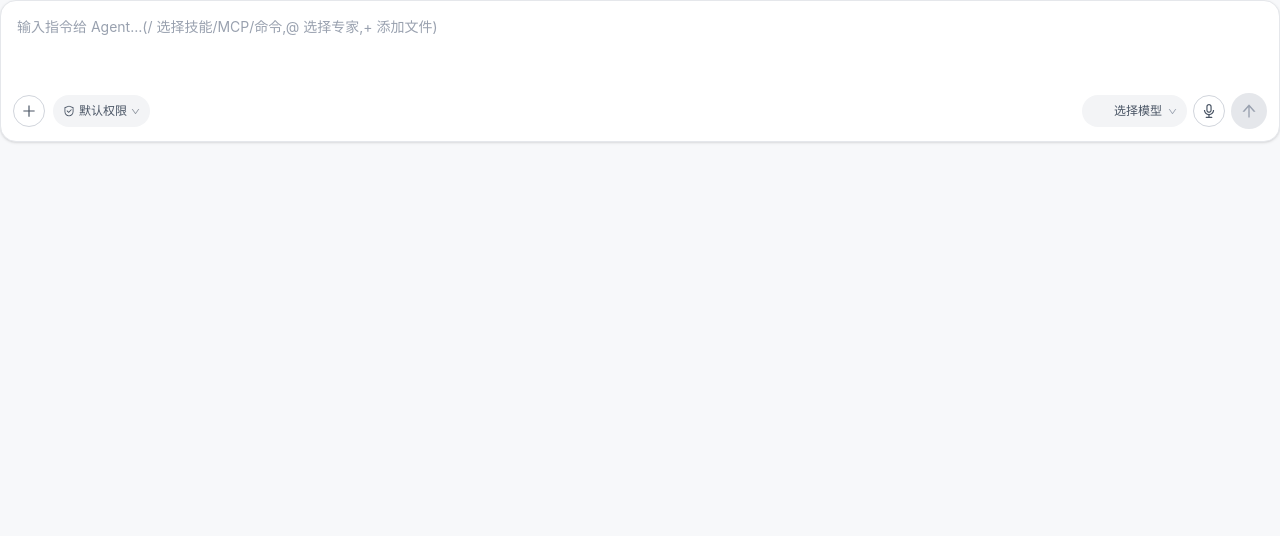
Scenario: AgentWorkspaceInput › / 菜单展示会话命令分组(压缩上下文/清理会话/规划模式)
Type "/" into the text box with placeholder "输入指令给 Agent…(/ 选择技能/MCP/命令,@ 选择专家,+ 添加文件)".
click(640, 47); type("/")  # box [17,17,1263,77]
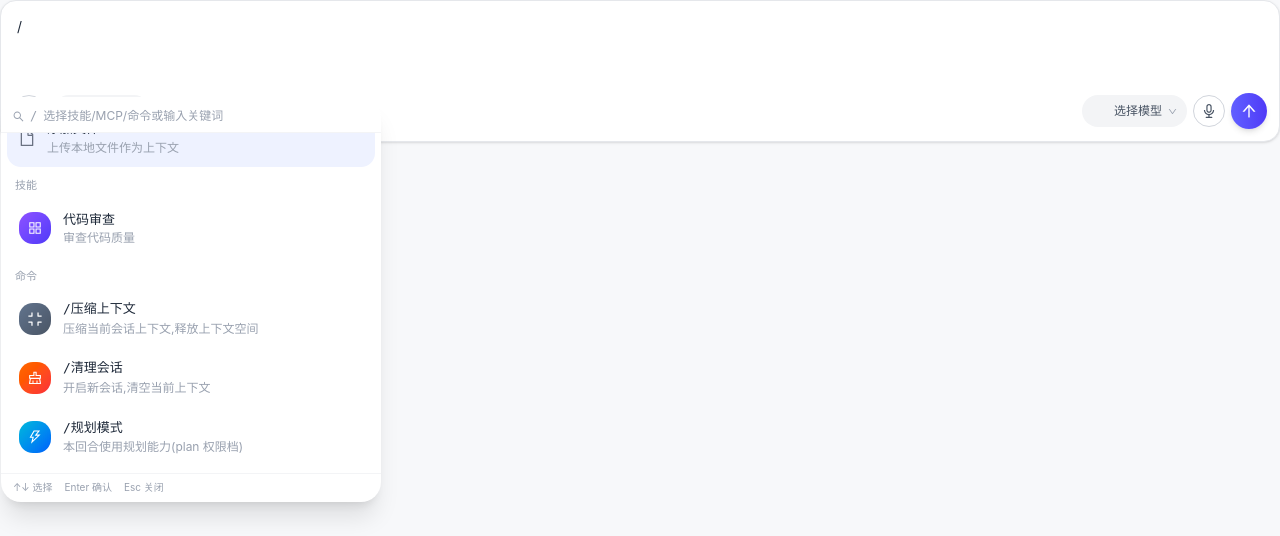
Check: the text "命令" is shown, box [15,269,37,283]
Check: the text "/压缩上下文" is shown, box [63,301,136,316]
Check: the text "/清理会话" is shown, box [63,360,123,376]
